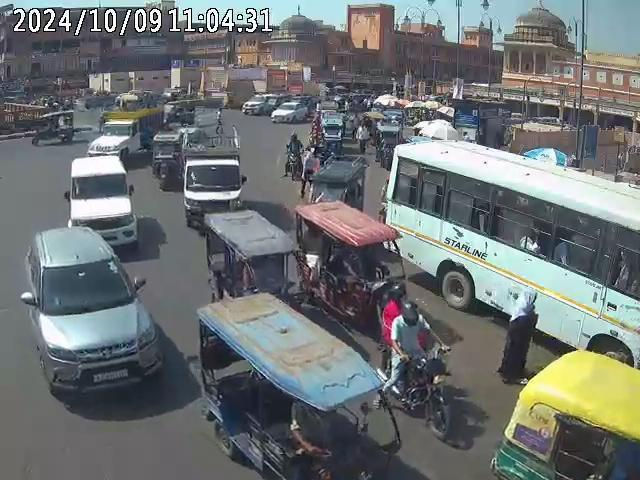auto: (193, 289, 398, 479), (490, 342, 638, 479), (294, 202, 408, 319), (201, 209, 306, 312), (305, 154, 368, 216), (150, 129, 185, 189), (31, 108, 77, 145)
bus: (382, 136, 639, 369)
car: (25, 223, 164, 404), (64, 154, 136, 251), (316, 108, 352, 144), (270, 97, 312, 124)
lorry: (179, 121, 246, 228), (86, 112, 168, 162)
motorbike-rider: (375, 299, 459, 438), (283, 132, 306, 180)
person: (497, 290, 542, 380), (302, 147, 321, 189), (520, 233, 541, 257)
